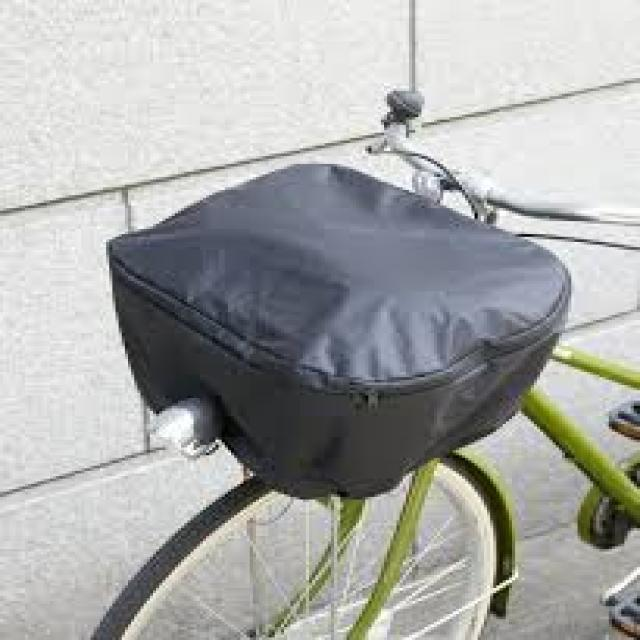basket: (96, 162, 565, 497)
